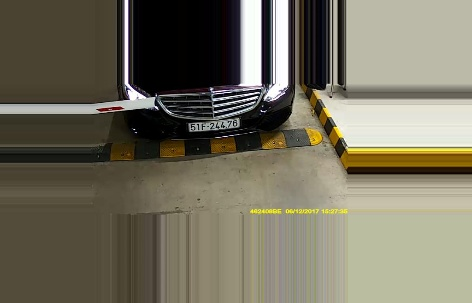plate: (187, 116, 241, 131)
